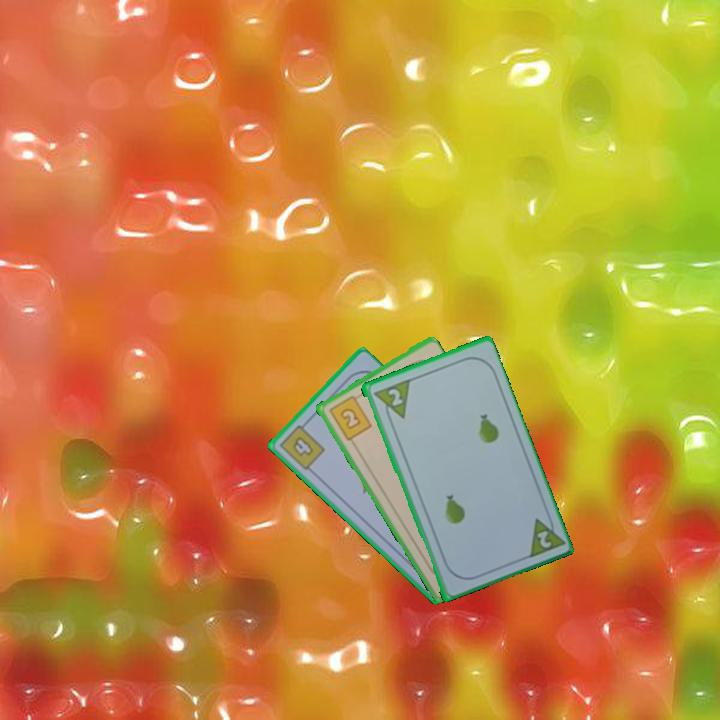2b: (325, 391, 374, 443)
2p: (384, 385, 405, 409), (533, 527, 554, 551)
4b: (276, 417, 328, 473)
